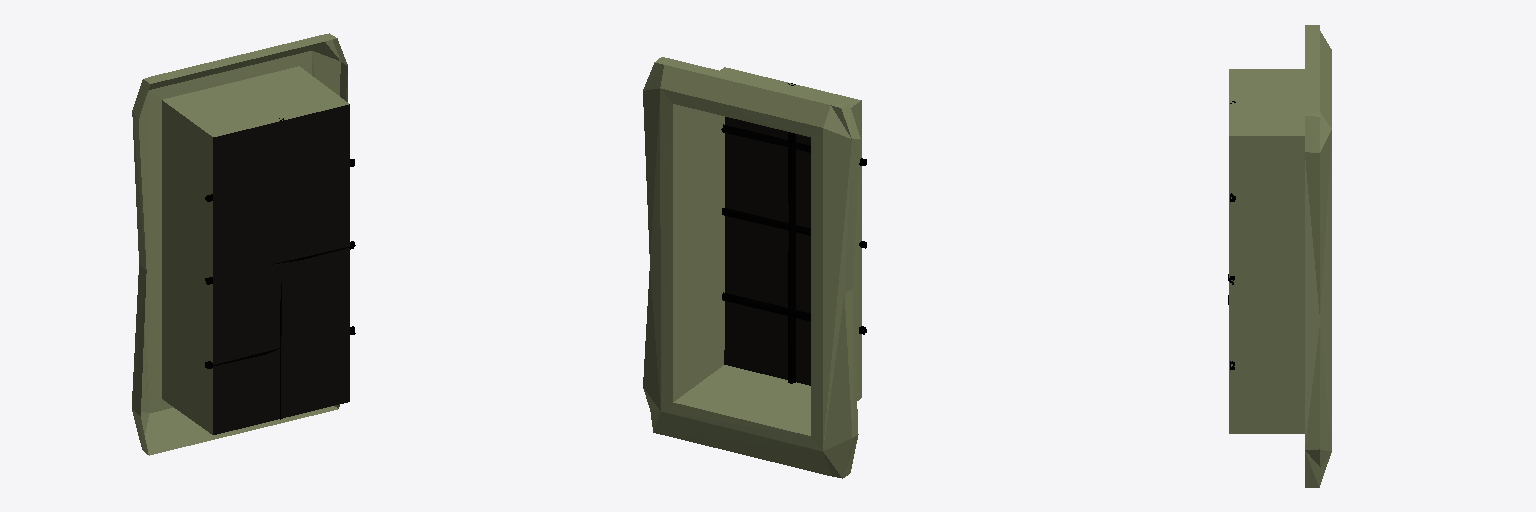
Rendered from Window_A.obj.
3 renders of one model, left to right at view 1: azimuth 30°, elevation 25°; view 2: azimuth 150°, elevation 25°; view 3: azimuth 270°, elevation 25°, orthographic.
Visible parts, largest first — view 1: Plane_Plane.010; view 2: Plane_Plane.010; view 3: Plane_Plane.010.
Boxes of the visible parts, x1,y1,x2,y2 form: Plane_Plane.010: [132, 33, 355, 455]; Plane_Plane.010: [643, 57, 866, 478]; Plane_Plane.010: [1228, 25, 1331, 487].
Bounding box in the file's own units: 1.03 × 1.74 × 0.4387.